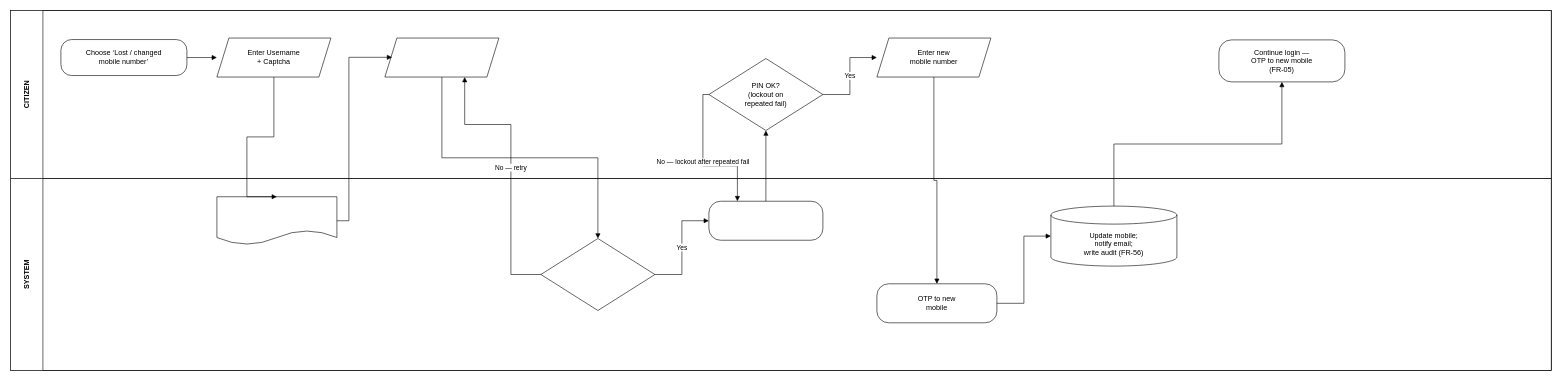
Some shapes in this 1562 by 381 pixel diagram are drawn without their labels. Each missing label, with the centre of its shape:
"3 of 5 questions selected at random" goes at (x=276, y=220).
"All three correct?" goes at (x=597, y=274).
"Answer all three questions" goes at (x=441, y=57).
"PIN to registered email" goes at (x=765, y=220).
